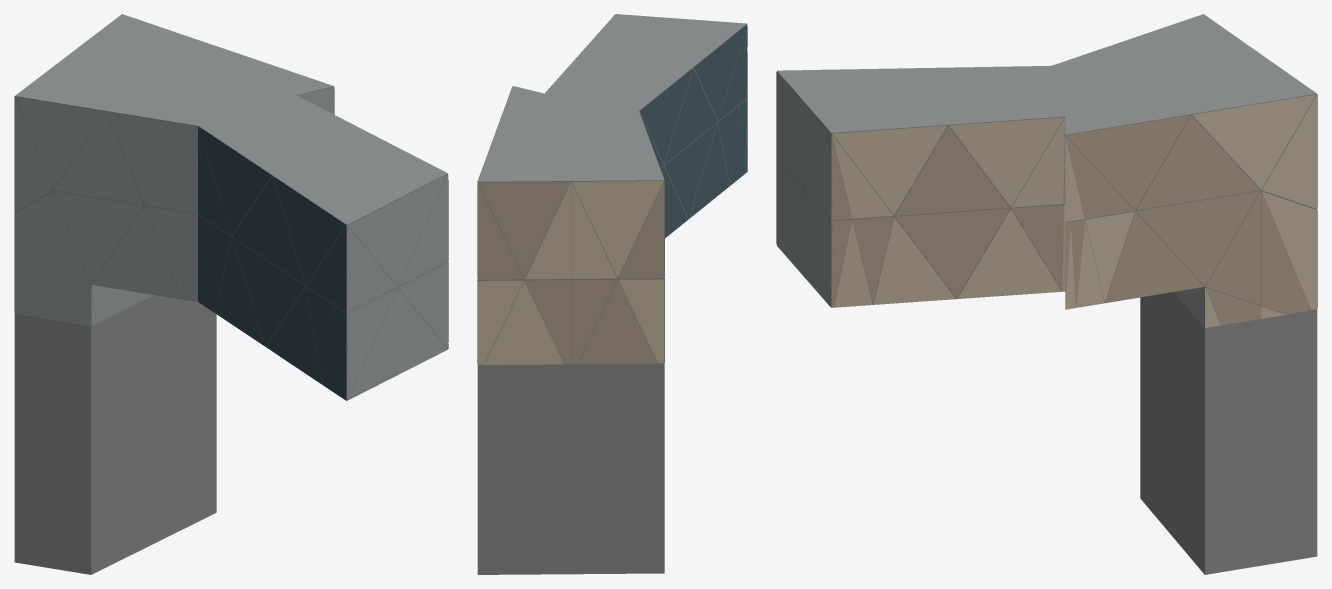
The model's file is federation-806667.glb.
3 renders of one model, left to right at view 1: azimuth 30°, elevation 25°; view 2: azimuth 150°, elevation 25°; view 3: azimuth 270°, elevation 25°, orthographic. The views are drawn at different scales.
Parts seen in each view (by area): view 1: structure_806667_clean_envelope, federation_east_panels_2, federation_east_panels_3; view 2: structure_806667_clean_envelope, federation_east_panels_0, federation_east_panels_1, federation_east_panels_3; view 3: structure_806667_clean_envelope, federation_east_panels_1, federation_east_panels_0, federation_east_panels_2.
Boxes of the visible parts, x1,y1,x2,y2 form: structure_806667_clean_envelope: (14, 14, 447, 574); federation_east_panels_2: (14, 87, 448, 400); federation_east_panels_3: (198, 127, 346, 400); structure_806667_clean_envelope: (477, 14, 747, 574); federation_east_panels_0: (477, 15, 664, 364); federation_east_panels_1: (478, 87, 664, 364); federation_east_panels_3: (640, 25, 747, 238); structure_806667_clean_envelope: (777, 14, 1317, 574); federation_east_panels_1: (831, 95, 1317, 325); federation_east_panels_0: (832, 94, 1317, 327); federation_east_panels_2: (776, 72, 1204, 327).
Bounding box in the file's own units: 12.64 × 22.5 × 23.83.
